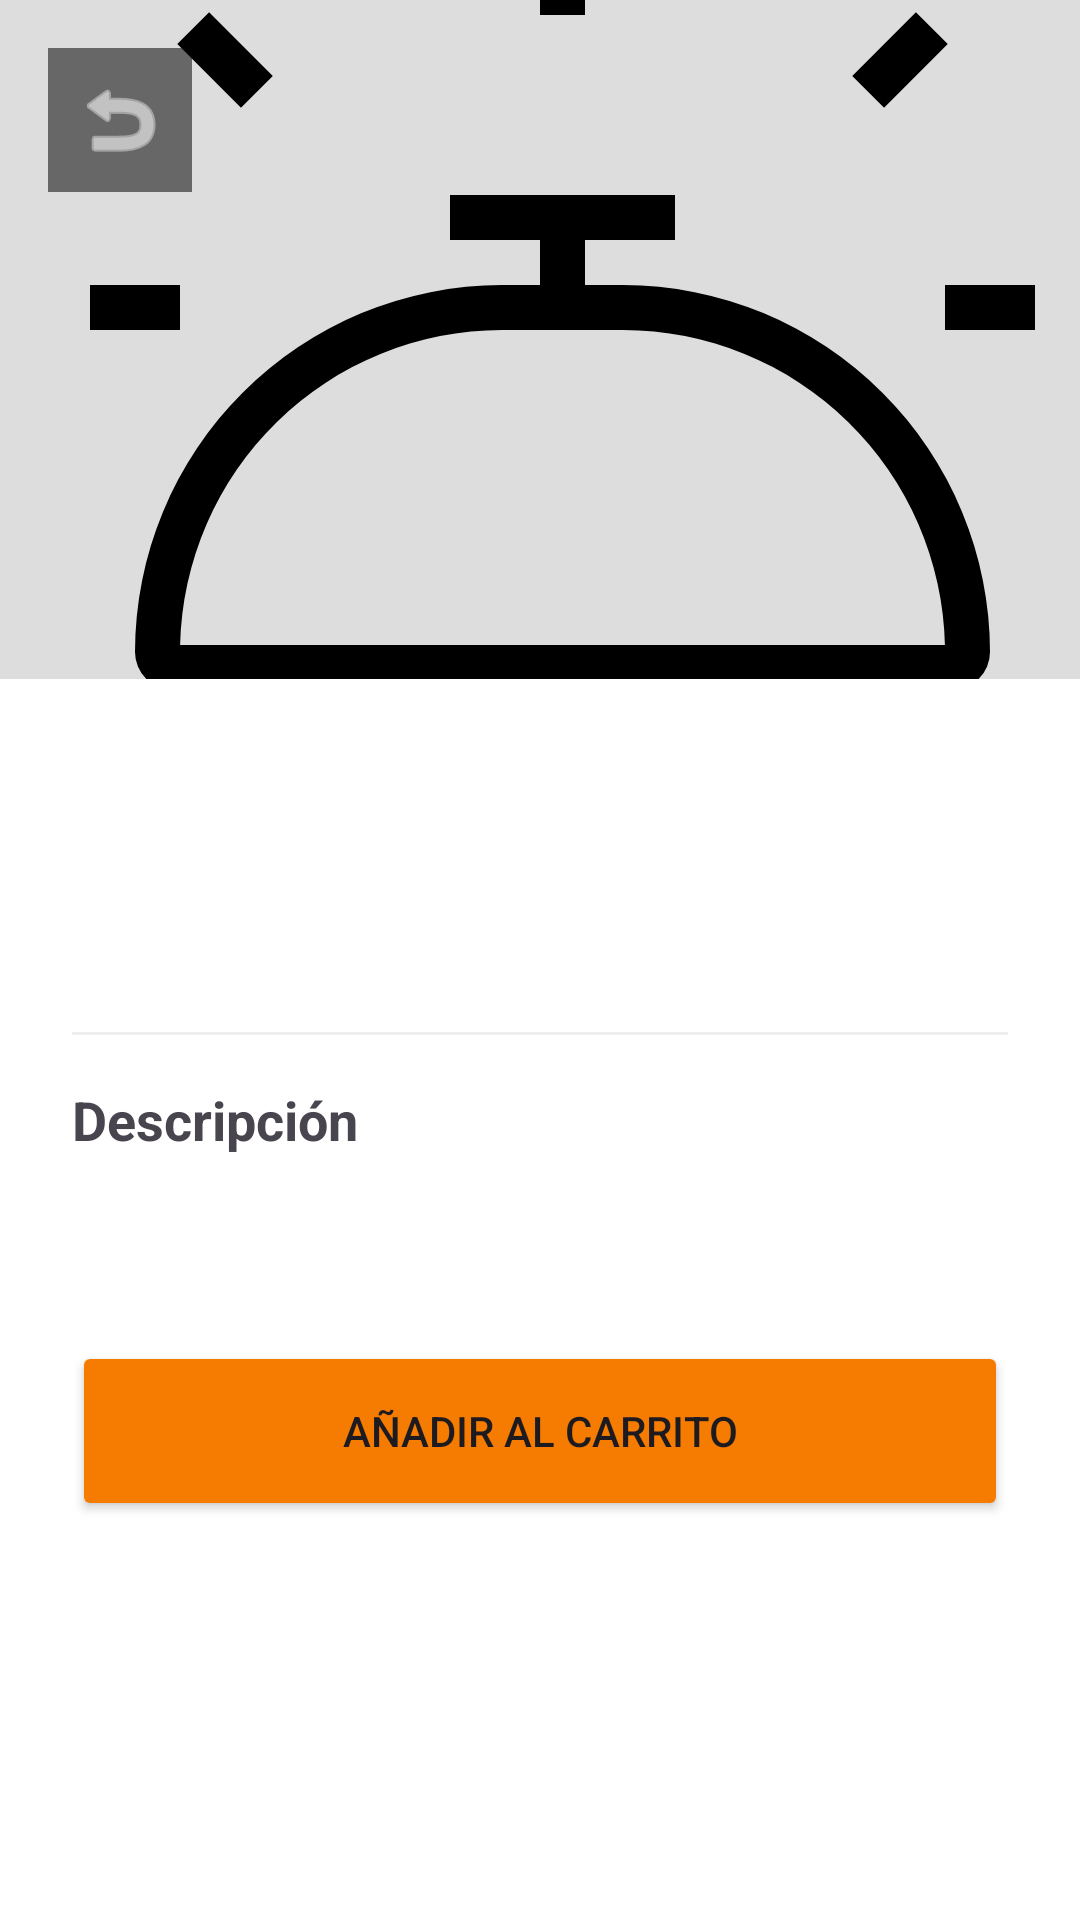

Named icons in this screenshot (1080w x 1920h) and their bounding boxes, (x1, y1, x2, y2):
Volver: (48, 48, 192, 192)
